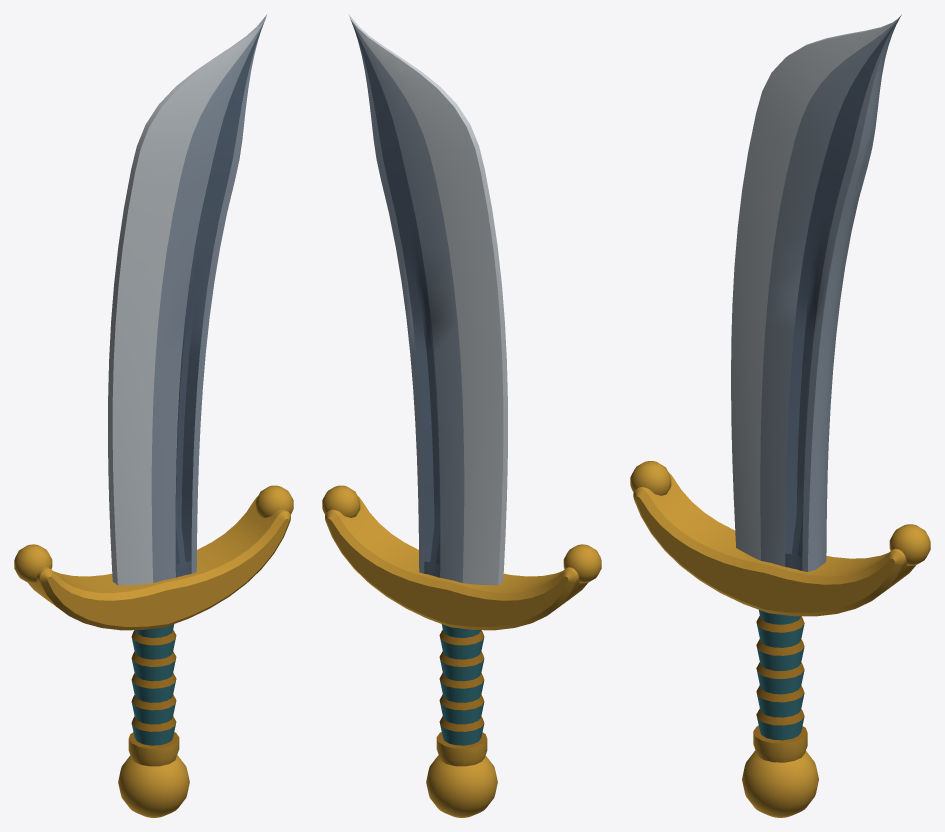
The model's file is Scimitar_10.glb.
3 views of the same model, side by side, from view 1: azimuth 30°, elevation 25°; view 2: azimuth 150°, elevation 25°; view 3: azimuth 330°, elevation 25° (orthographic). The views are drawn at different scales.
Parts seen in each view (by area): view 1: Scimitar_10; view 2: Scimitar_10; view 3: Scimitar_10.
Boxes of the visible parts, <box> form: Scimitar_10: <box>14,15,293,817</box>; Scimitar_10: <box>322,15,601,817</box>; Scimitar_10: <box>630,14,930,817</box>.
Size of the model in its own units: 2.44 by 6.56 by 0.552.
